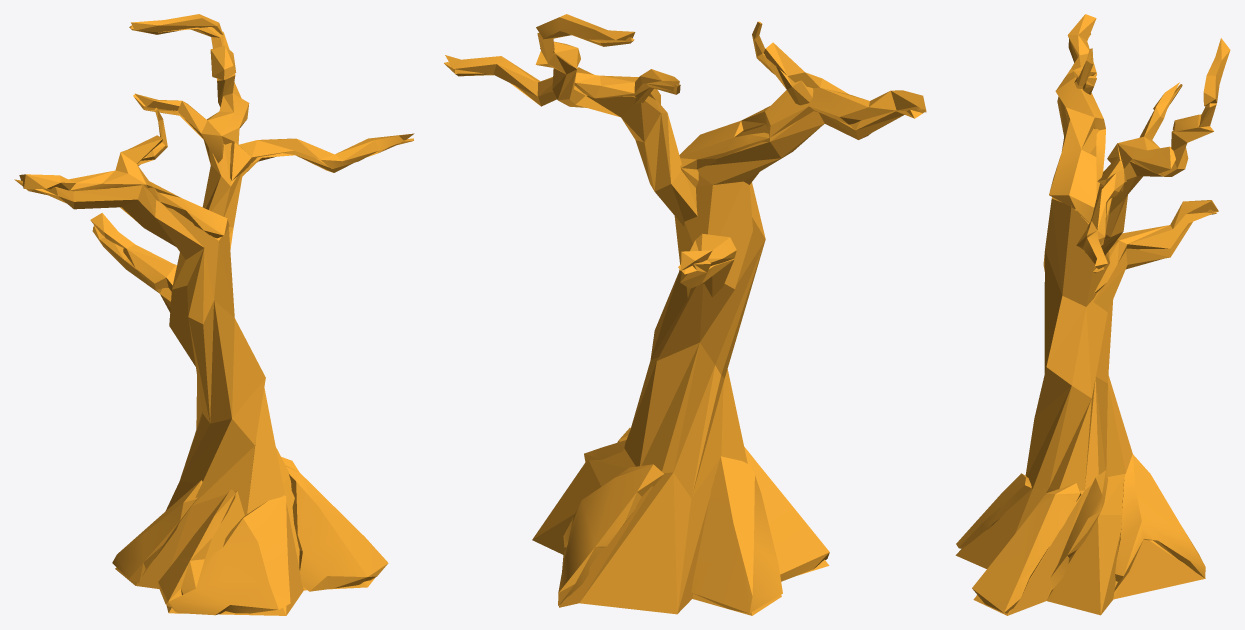
File: SM_Tree_Juniper_Dead_A_Snow.fbx
3 views of the same model, side by side, from view 1: azimuth 30°, elevation 25°; view 2: azimuth 150°, elevation 25°; view 3: azimuth 270°, elevation 25° (orthographic). The views are drawn at different scales.
Parts seen in each view (by area): view 1: tree-juniper-dead-a-snow; view 2: tree-juniper-dead-a-snow; view 3: tree-juniper-dead-a-snow.
Boxes of the visible parts, x1=… form: tree-juniper-dead-a-snow: x1=14, y1=14, x2=414, y2=615; tree-juniper-dead-a-snow: x1=444, y1=14, x2=926, y2=615; tree-juniper-dead-a-snow: x1=955, y1=14, x2=1230, y2=615.
Size of the model in its own units: 2.39 by 2.86 by 1.41.
